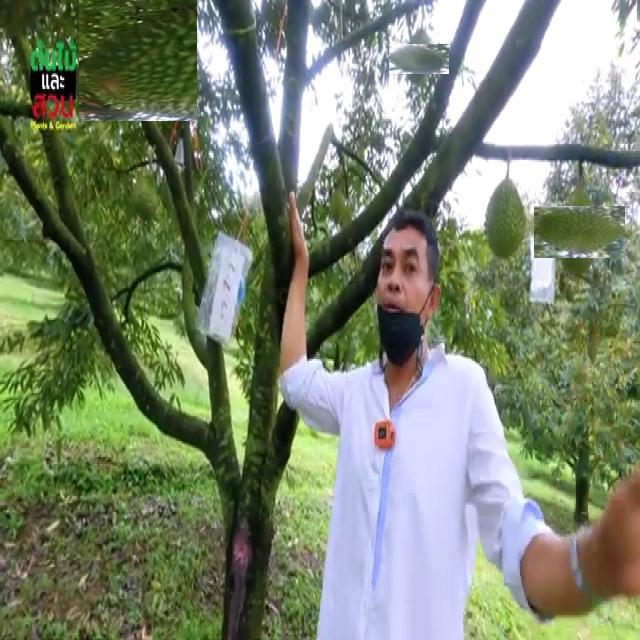durian: (77, 0, 199, 120), (544, 196, 616, 268), (483, 178, 529, 262), (397, 36, 442, 82)
